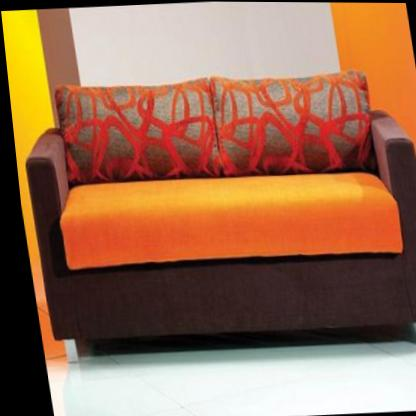Sofa: (8, 58, 416, 369)
